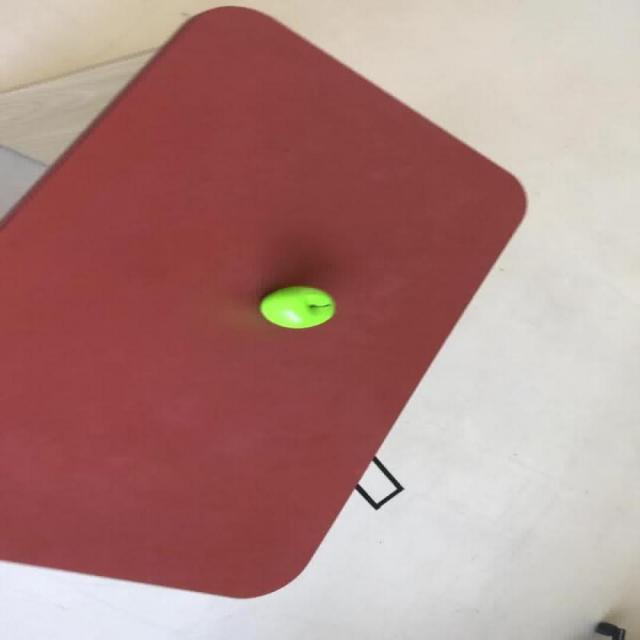Apple: (258, 284, 335, 328)
